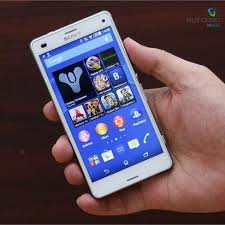sony: (26, 8, 172, 199)
